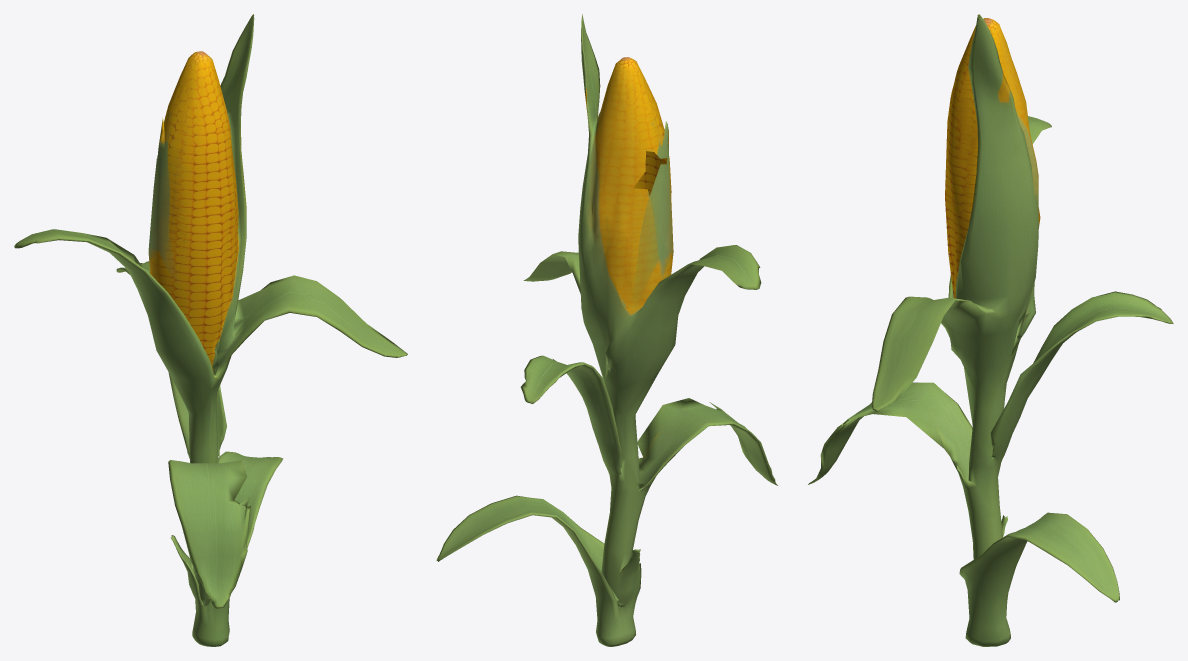
Rendered from corn_plant.glb.
The picture shows the model from 3 angles, left to right: view 1: azimuth 30°, elevation 25°; view 2: azimuth 150°, elevation 25°; view 3: azimuth 270°, elevation 25°; orthographic projection. The views are drawn at different scales.
Parts seen in each view (by area): view 1: mesh_node; view 2: mesh_node; view 3: mesh_node.
Part boxes in pixels (box(x1,y1,x2,y2)): mesh_node: box(14, 14, 407, 646); mesh_node: box(436, 14, 777, 646); mesh_node: box(808, 14, 1173, 646).
Bounding box in the file's own units: 1.01 × 1.9 × 0.9728.
Materials: 1 (1 with a texture image).
